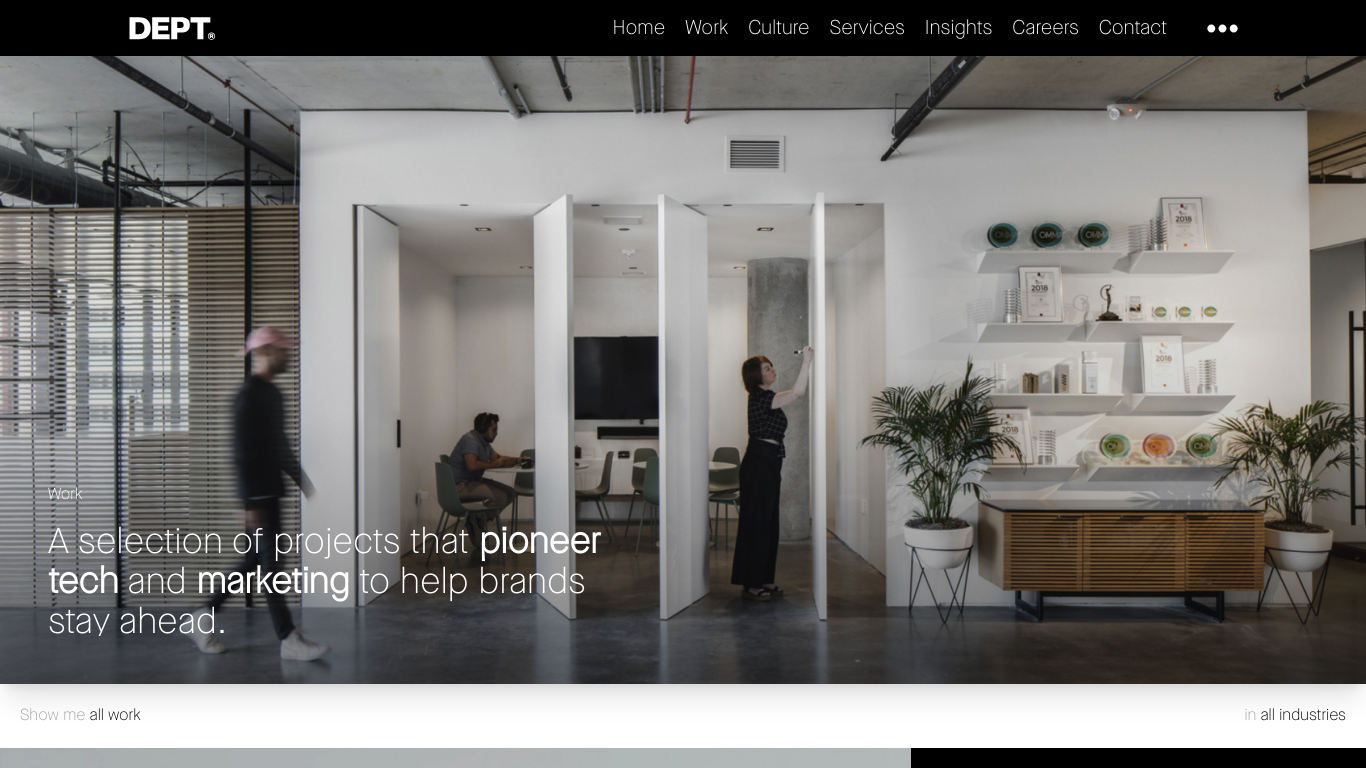
Scenario: empty spec › Click on dots and open menu
Click the picture with id "dots" at (1223, 29), box [1207,24,1238,33]
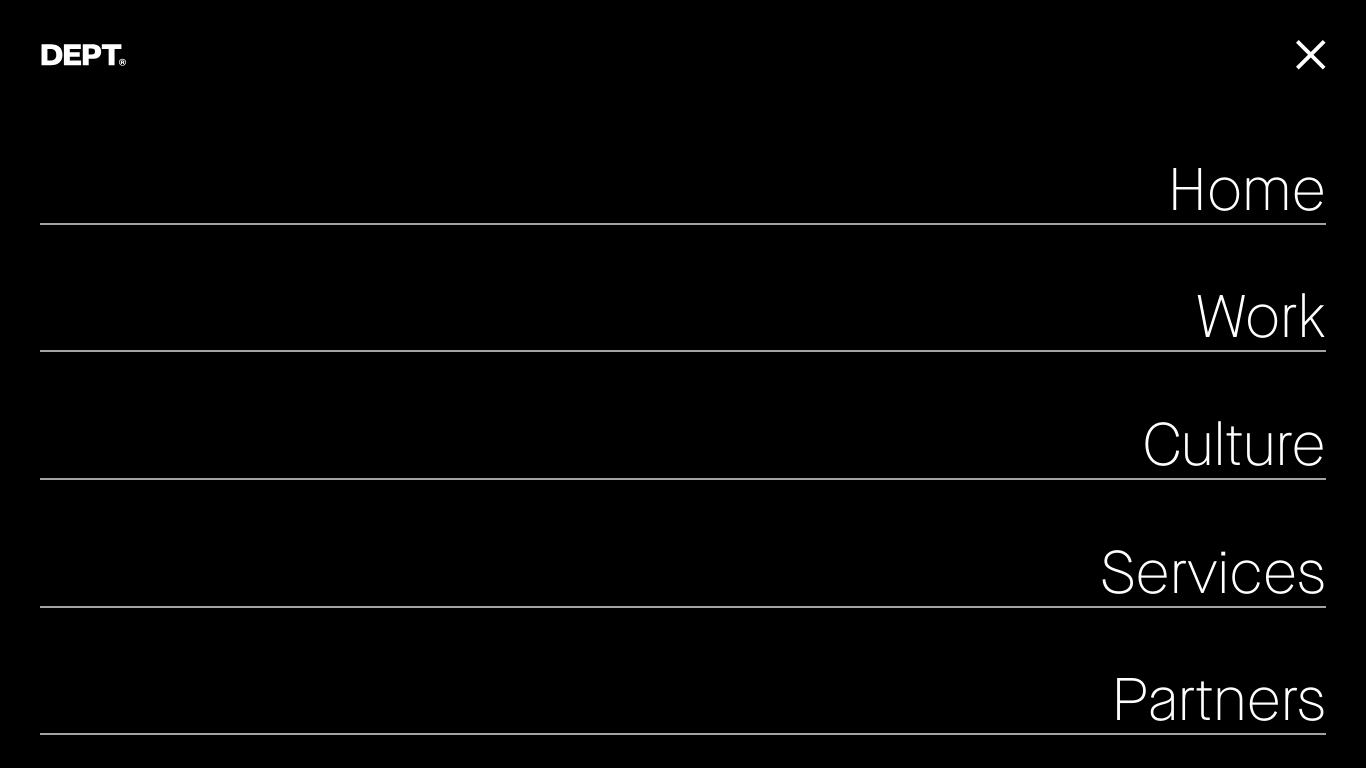
Now the element with class "megaMenu" is shown
